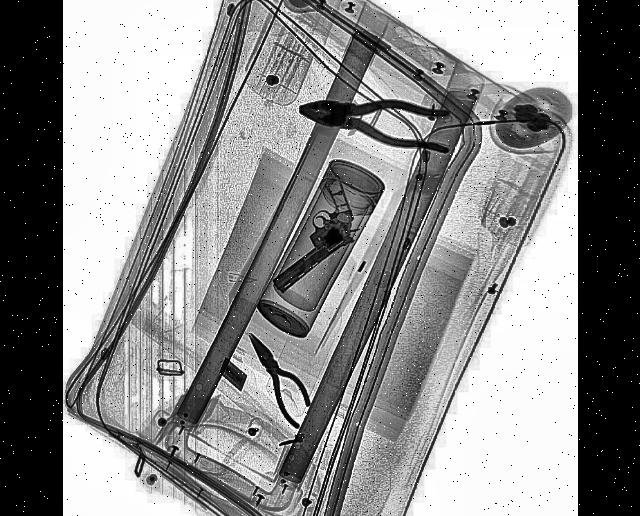Gun: (250, 172, 368, 298)
Pliers: (297, 85, 451, 155), (238, 320, 318, 432)
